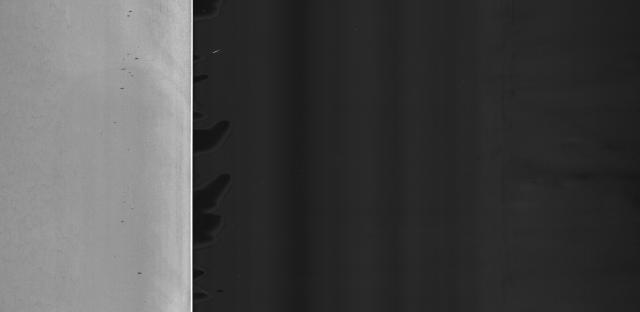inclusion: (132, 263, 156, 281), (116, 82, 134, 94), (116, 63, 130, 74), (131, 53, 146, 62), (125, 7, 134, 19)
silk_spot: (1, 5, 70, 301)
